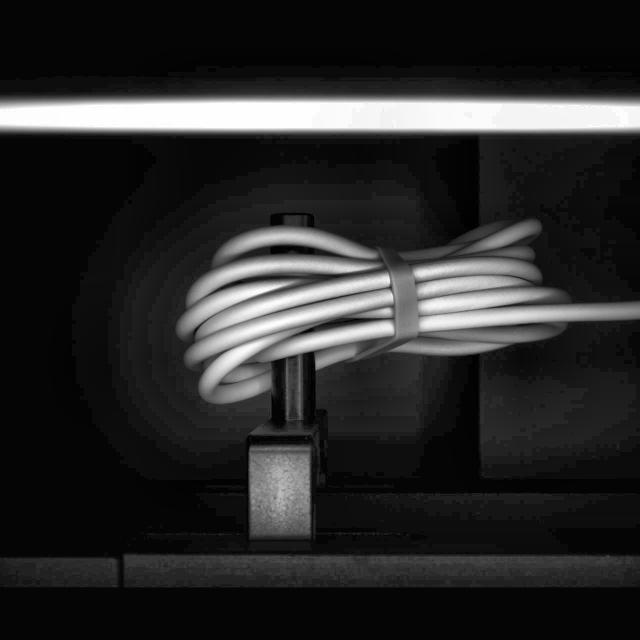Cable: (173, 209, 640, 410)
